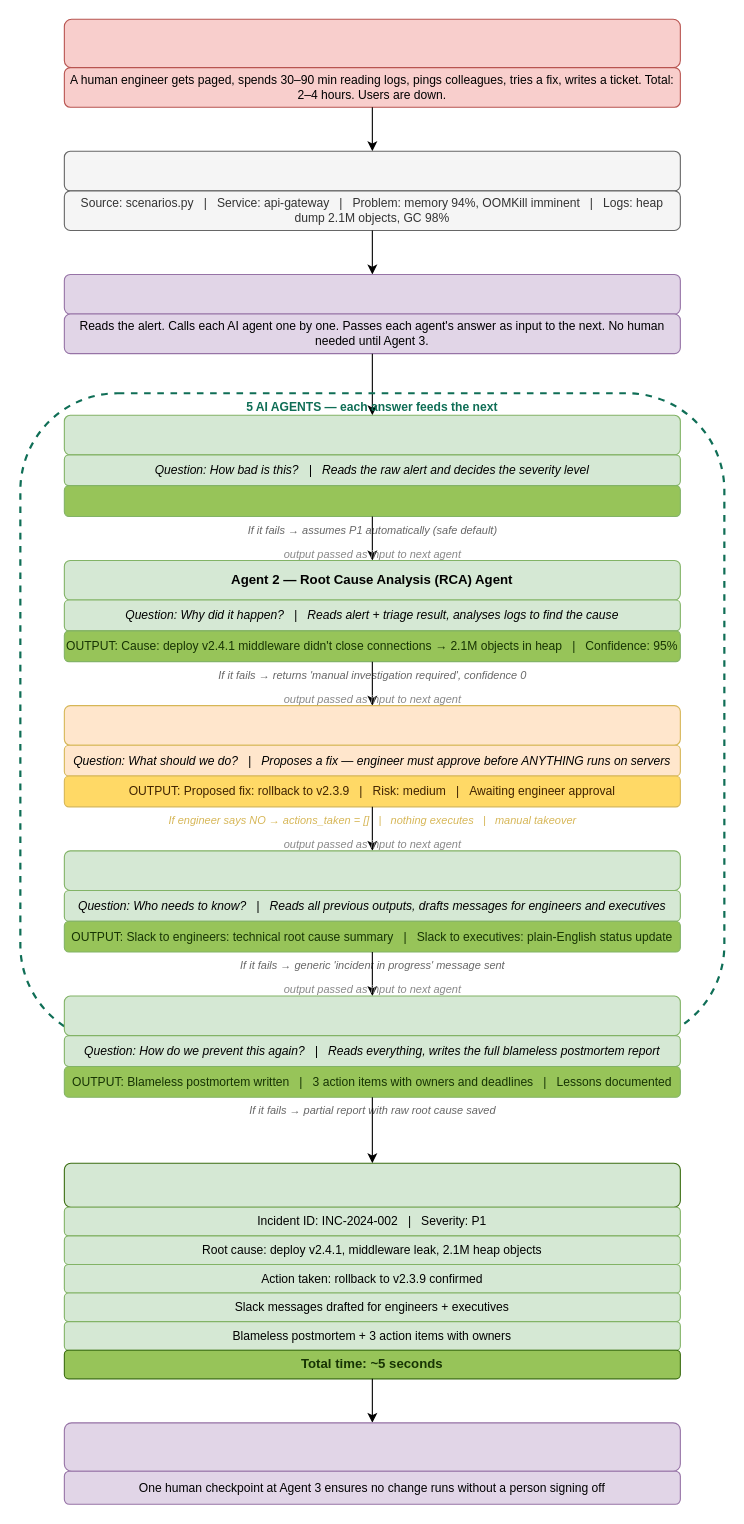
Image size: 744x1524. Some labels were removed from this diagram. The box of each missing label's shape, as (x1, y1, x2, y2) in pixels:
2–4 hours of human work → done in 5 seconds: (63, 1422, 680, 1471)
Agent 1 — Triage Agent: (63, 414, 680, 455)
Agent 3 — Remediation Agent + Human Approval Gate: (63, 705, 680, 745)
Agent 4 — Communications Agent: (63, 850, 680, 890)
Agent 5 — Incident Review Agent: (63, 995, 680, 1036)
Final Output — printed to your terminal (python main.py): (63, 1162, 680, 1207)
OUTPUT: Severity: P1 (critical) | All API gateway users affected | Escalate: yes: (63, 485, 680, 516)
Production breaks at 2 AM — The Problem: (63, 18, 680, 68)
STEP 1 — Alert comes in: (63, 150, 680, 191)
STEP 2 — Orchestrator (main.py): (63, 273, 680, 314)
